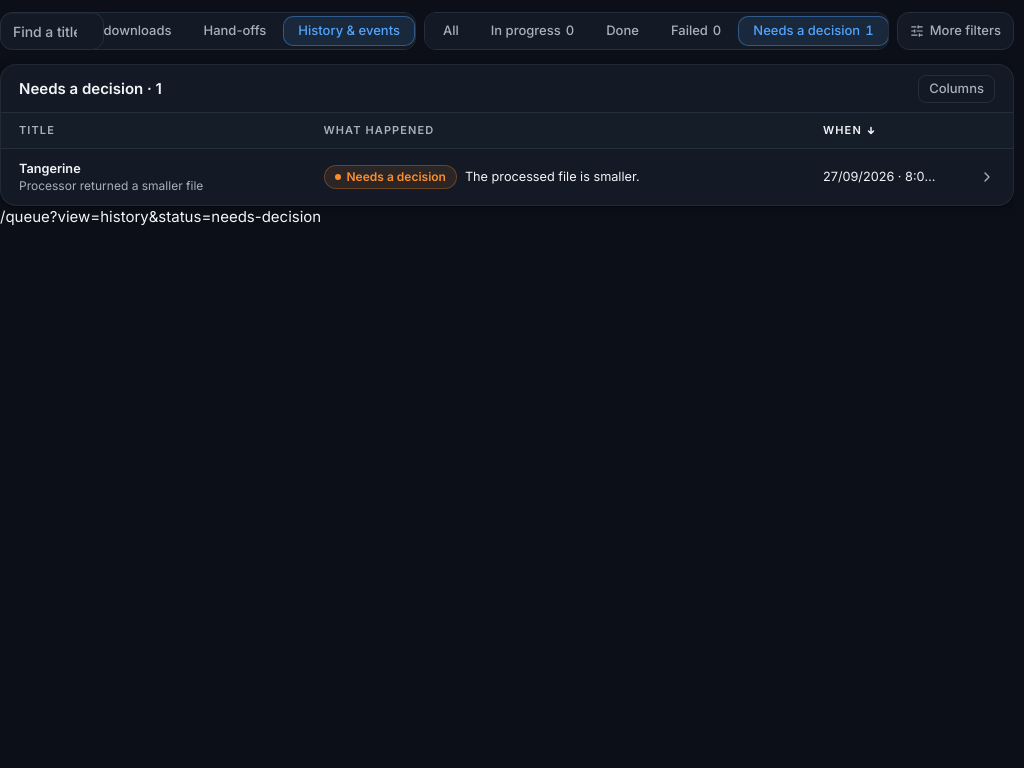
Test: Activity decides an import case from its drawer (#1329) › Import original posts import-original, says the title will be imported unprocessed, and closes the drawer
This screenshot has width=1024, height=768.
Click the text "Tangerine": (50, 168) [19,161,81,176]
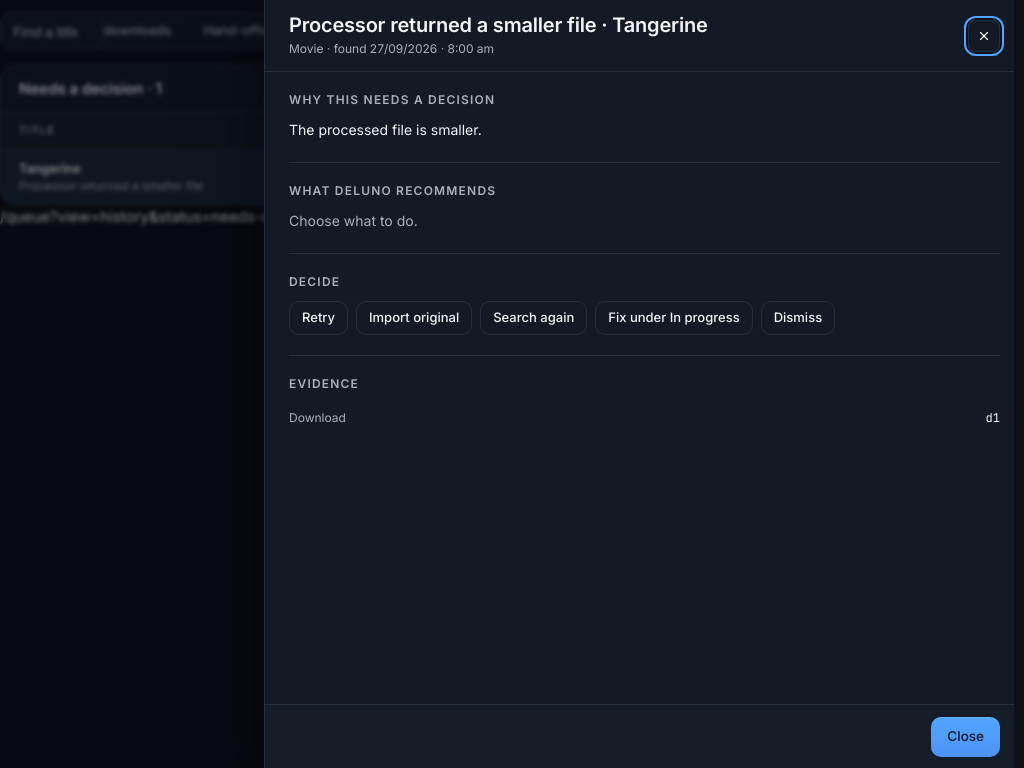
Click the button with aria-label "Import original: Tangerine": (414, 318) [356,300,472,334]
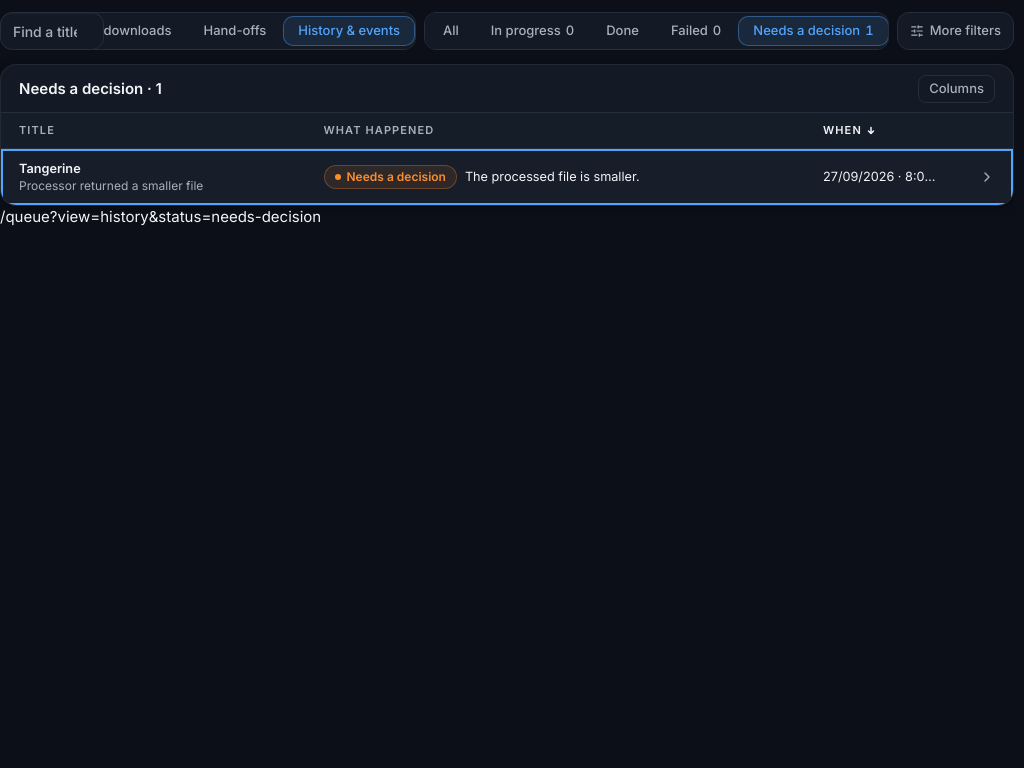
Now the dialog is gone
